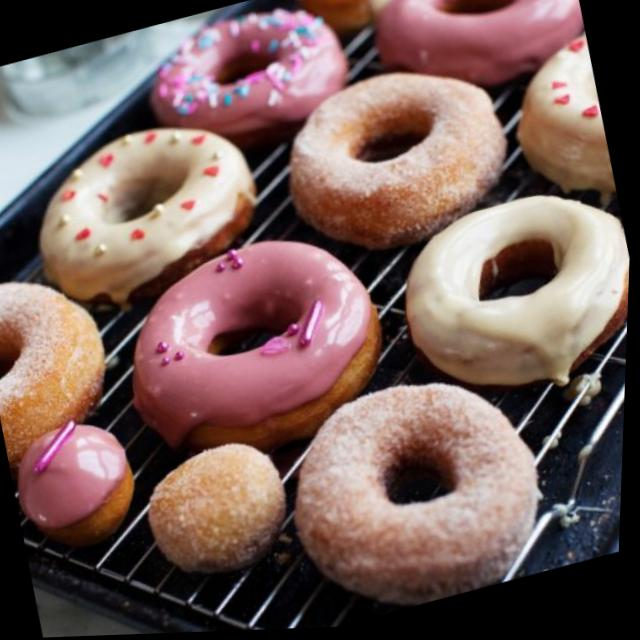donut: (265, 352, 565, 632), (104, 213, 404, 478), (385, 172, 634, 418), (272, 46, 525, 267), (16, 103, 274, 316), (138, 0, 357, 157), (0, 256, 127, 466), (357, 0, 592, 111), (492, 22, 623, 219)
